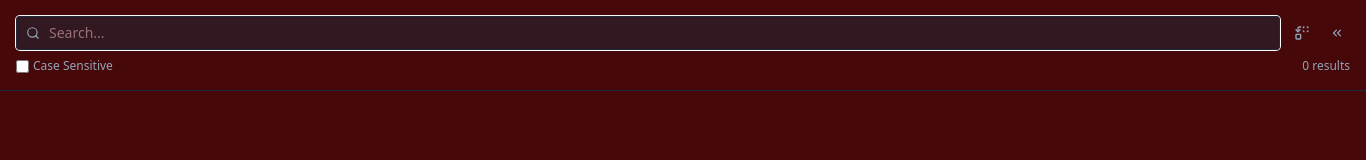
Test: SearchPanel › should show replace input when replace button clicked
Click the button titled "Toggle Replace". click: (1302, 33)
box: [1288,19,1316,47]
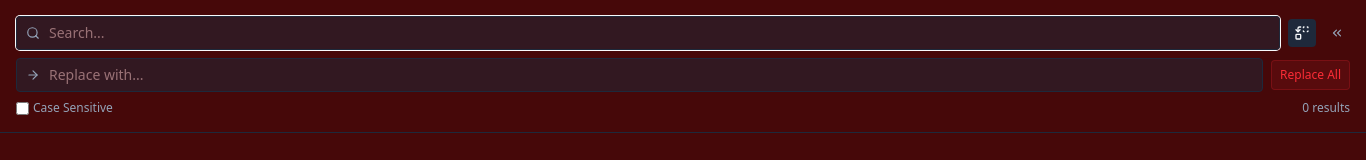
Check: the field with placeholder "Replace with..." is shown, box [16,58,1263,92]
